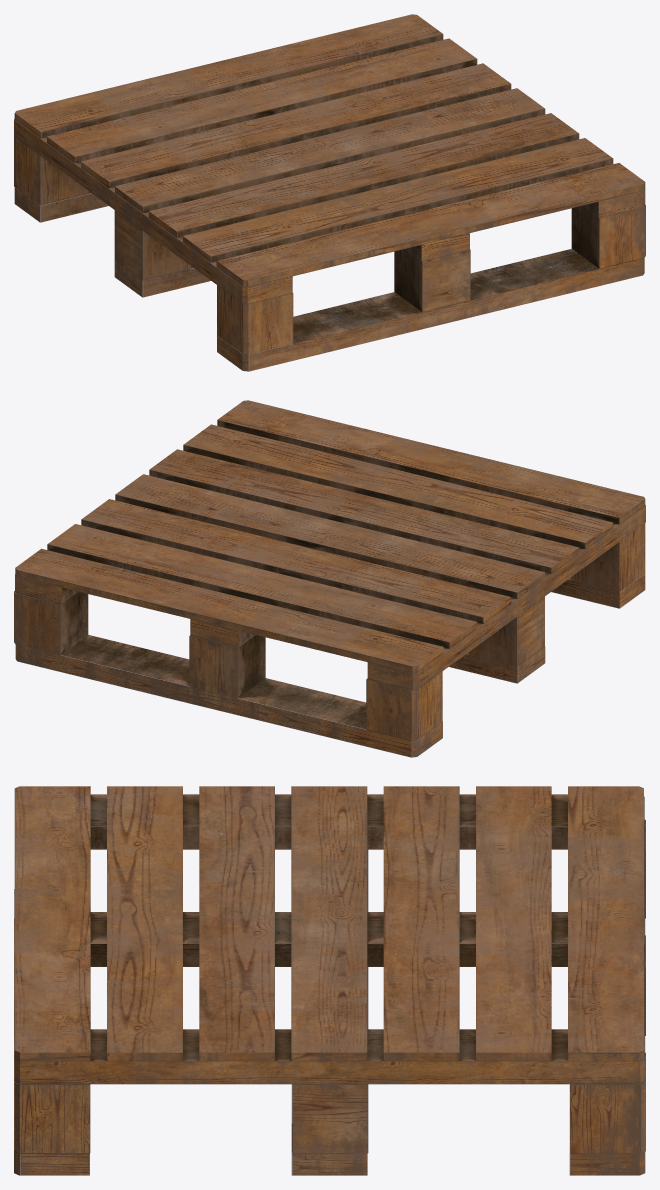
The model's file is renda.fbx.
3 views of the same model, one above another, from view 1: azimuth 30°, elevation 25°; view 2: azimuth 150°, elevation 25°; view 3: azimuth 270°, elevation 25° (orthographic). The views are drawn at different scales.
Visible parts, largest first — view 1: pallet; view 2: pallet; view 3: pallet.
Part boxes in pixels (<box>): pallet: <box>14,14,645,371</box>; pallet: <box>14,400,645,757</box>; pallet: <box>14,786,645,1175</box>.
Size of the model in its own units: 500 by 108 by 500.
